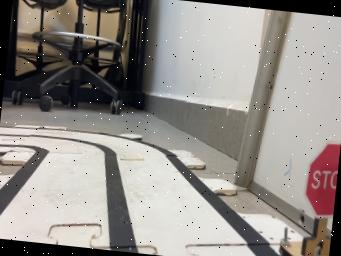stop: (279, 142, 340, 256), (279, 142, 340, 256)
street: (0, 127, 280, 256), (0, 127, 280, 256)
